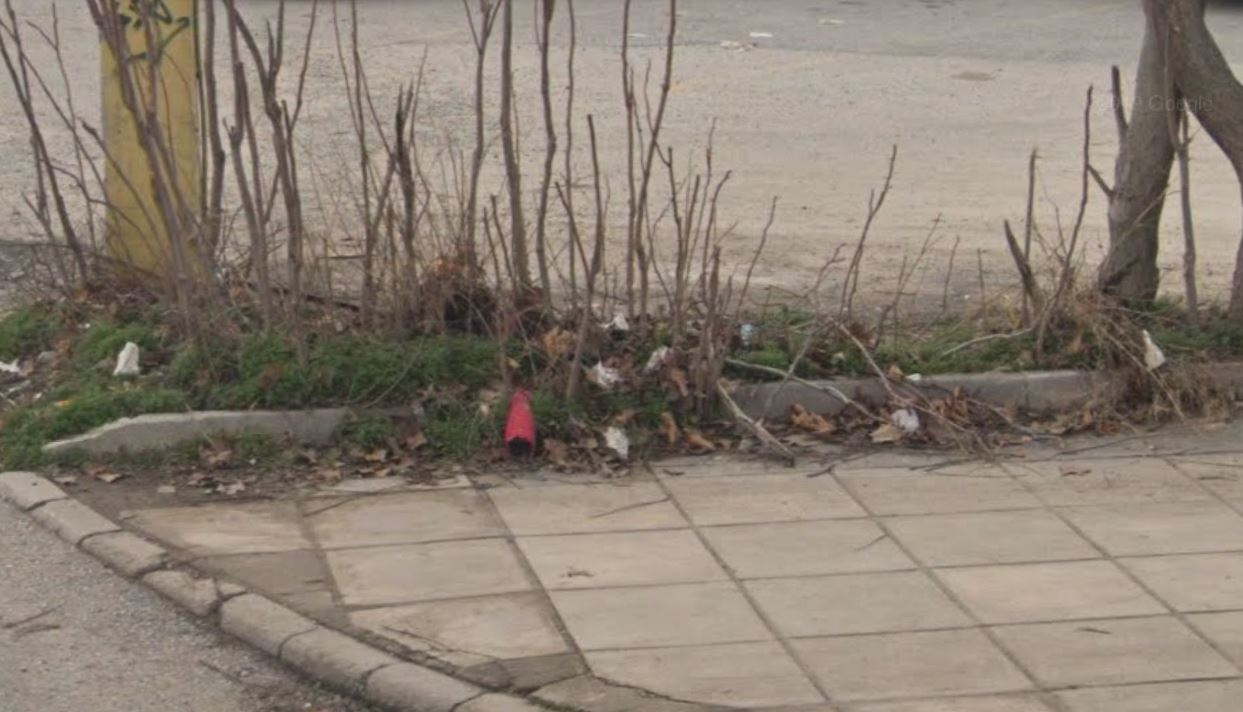trash: (586, 300, 687, 458), (484, 372, 543, 461), (1127, 322, 1191, 381), (104, 335, 159, 385), (872, 399, 925, 435), (726, 308, 764, 346)
